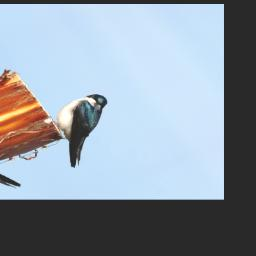Swallow: (27, 90, 144, 170)
